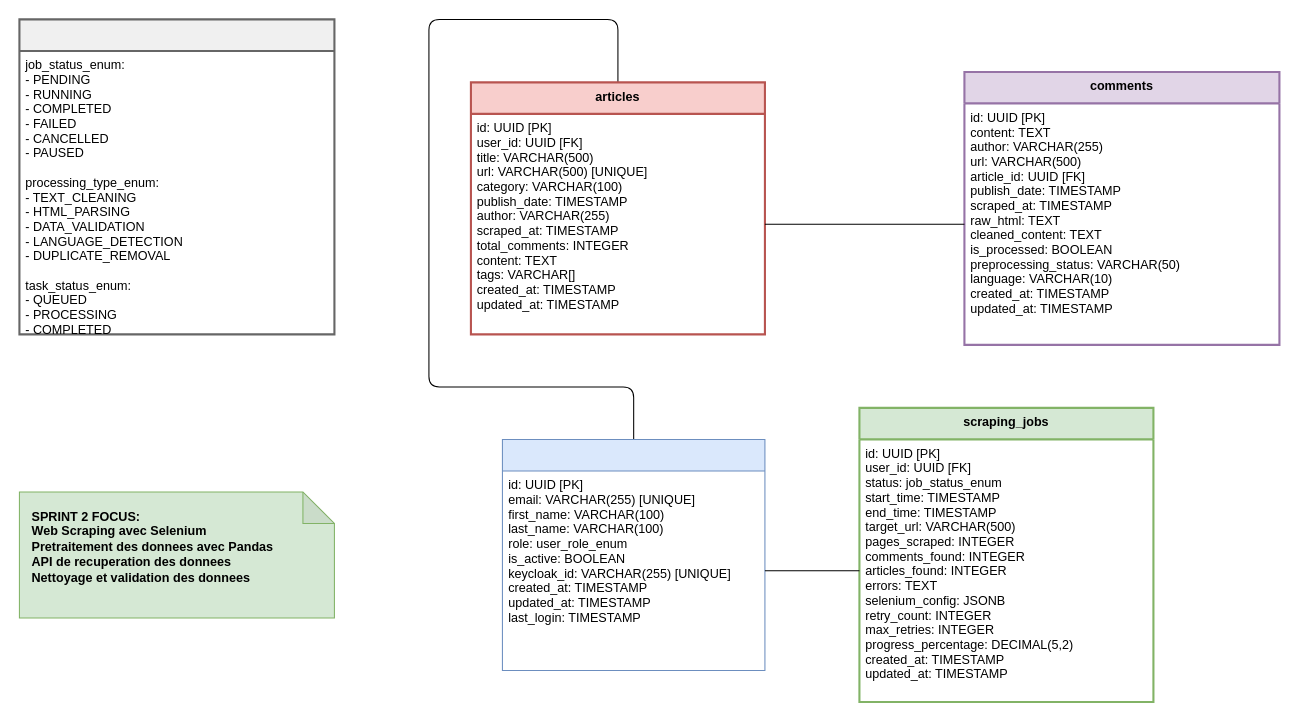
Image size: 1298x722. Some labels were removed from this diagram. The shapes that lost their labels are listed below. From the top down, each one's box as (x1, y1, x2, y2) in pixels, then its label:
(18, 18, 335, 335): SPRINT 2 ENUMS
(501, 438, 765, 670): users
